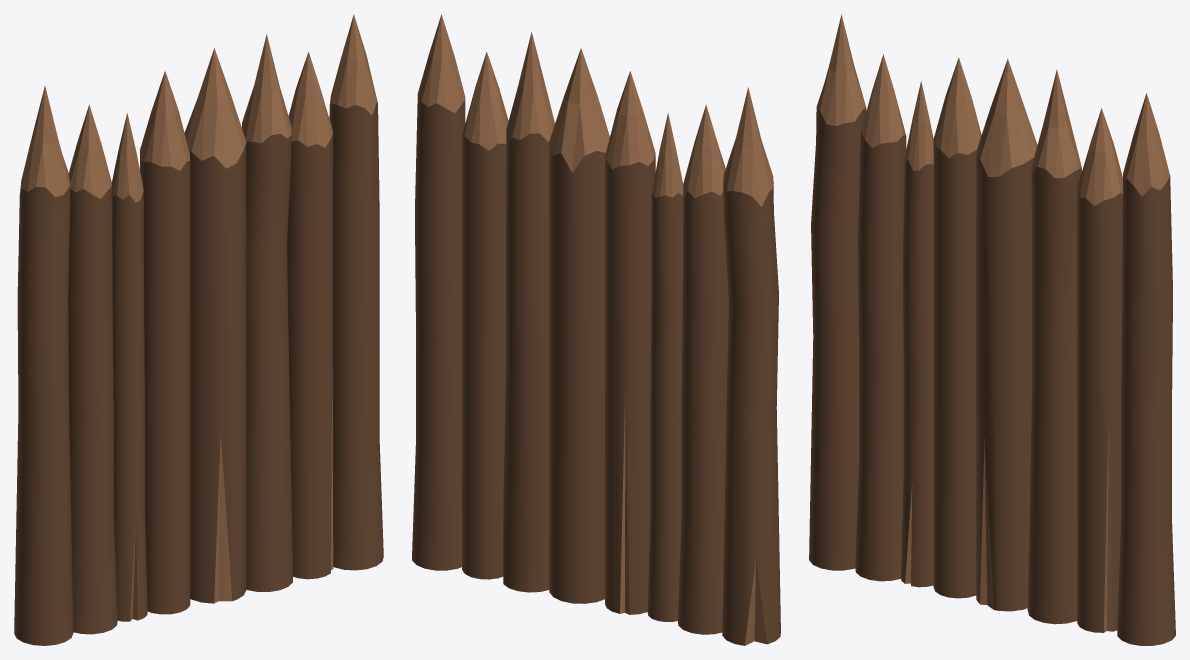
File: Fence_01.fbx
3 views of the same model, side by side, from view 1: azimuth 30°, elevation 25°; view 2: azimuth 150°, elevation 25°; view 3: azimuth 330°, elevation 25° (orthographic).
Visible parts, largest first — view 1: Fence_01_LOD0; view 2: Fence_01_LOD0; view 3: Fence_01_LOD0.
Part boxes in pixels (x1=…): Fence_01_LOD0: x1=14, y1=14, x2=383, y2=645; Fence_01_LOD0: x1=412, y1=14, x2=780, y2=645; Fence_01_LOD0: x1=809, y1=14, x2=1175, y2=645.
Size of what is drawn, in the model's own units: 1.69 by 2.44 by 0.2569.
